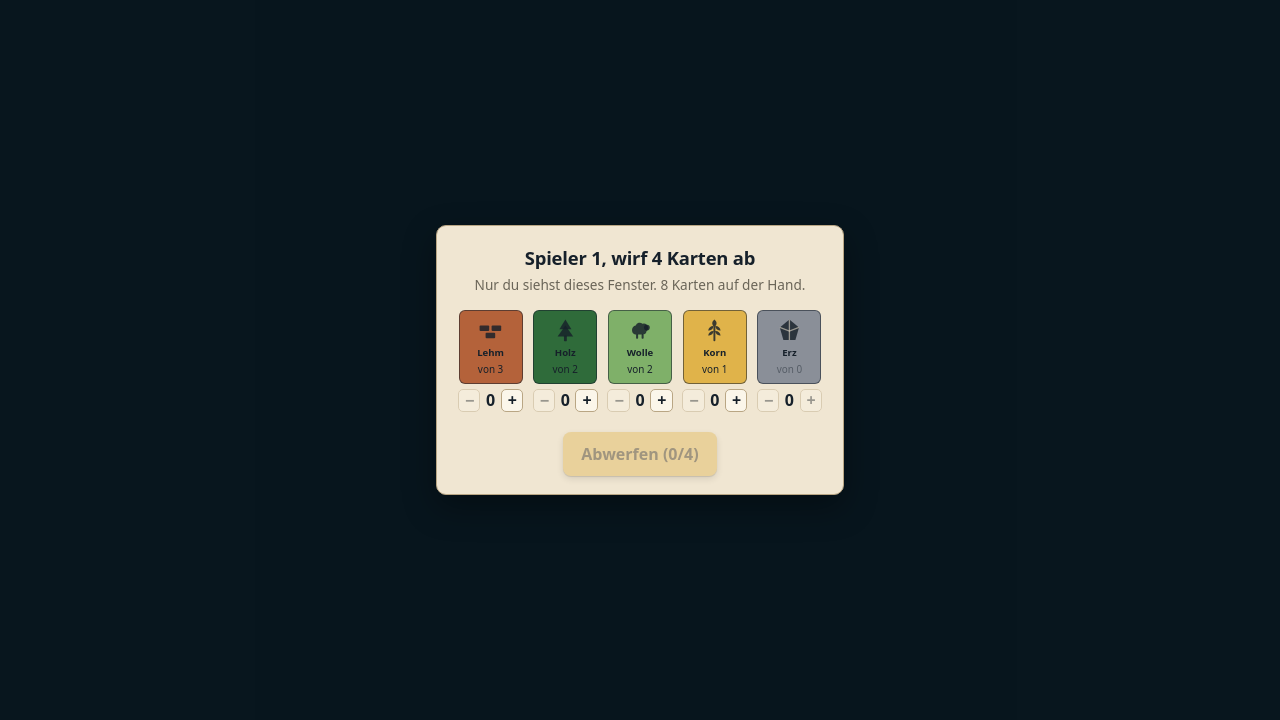
Scenario: DiscardDialog, der Weg zurueck › laesst herunterzaehlen, auch wenn der Wert ueber dem Vorrat steht
Korn gibt es genau einmal - eins geht, ein zweites nicht.
Click the button named "Korn mehr" at coordinates (736, 400), box [725,389,747,412]
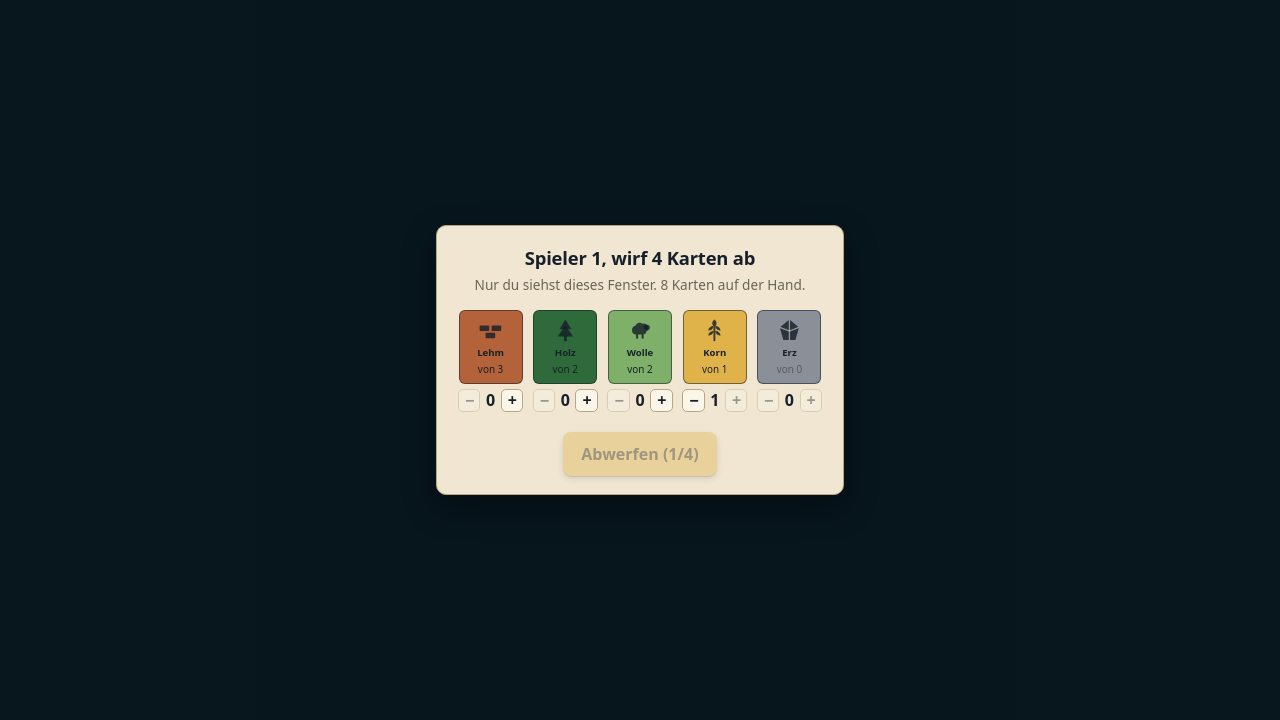
Result: the text with test id "chosen-grain" reads "1" at [710,389,719,411]
Result: the button named "Korn mehr" is disabled at [725,389,747,412]
Result: the button named "Korn weniger" is enabled
Click the button named "Korn weniger" at coordinates (693, 400), box [682,389,705,412]
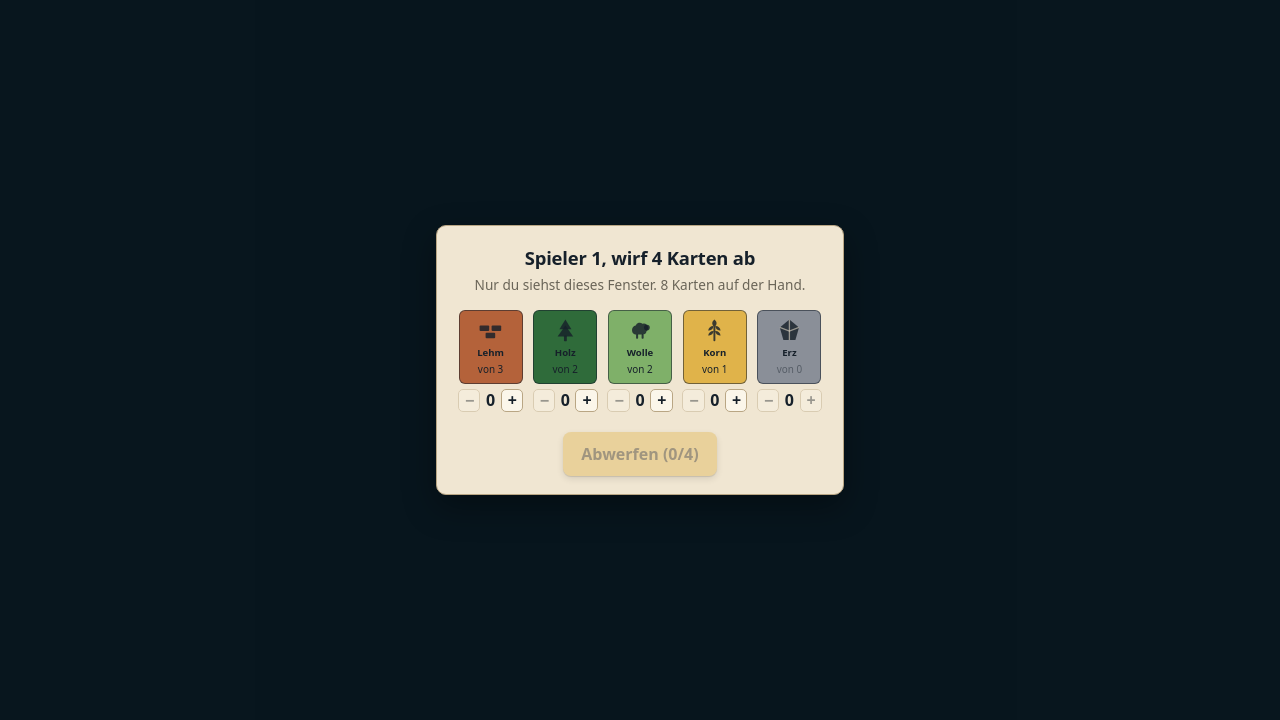
Result: the text with test id "chosen-grain" reads "0" at [710,389,719,411]
